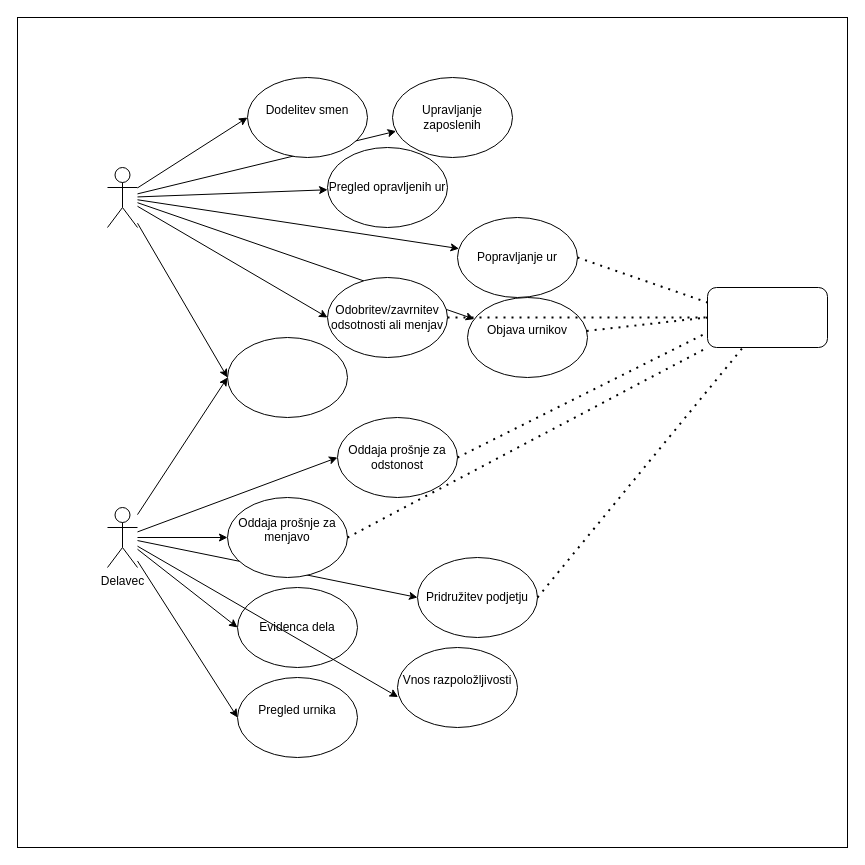
Some shapes in this 865 by 865 pixel diagram are drawn without their labels. Here are the shapes that lost their labels. From the top down, the centre of each, then its label:
At point (122, 197): "Admin".
At point (767, 317): "Obvestilo".
At point (287, 377): "Prijava/Registracija".
